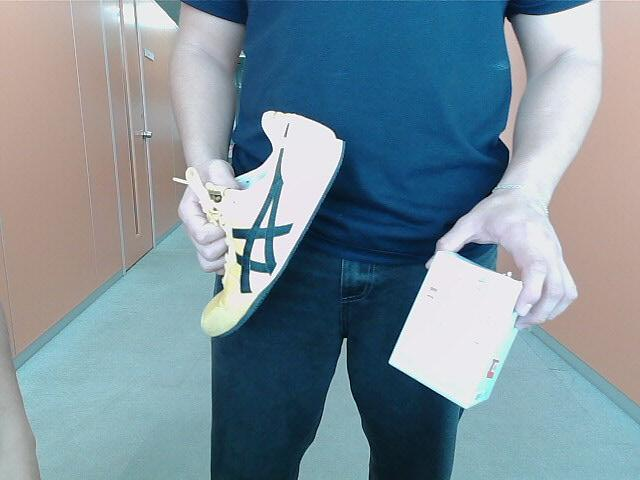Blind_box: (388, 244, 528, 409)
Shoes: (201, 105, 343, 338)
